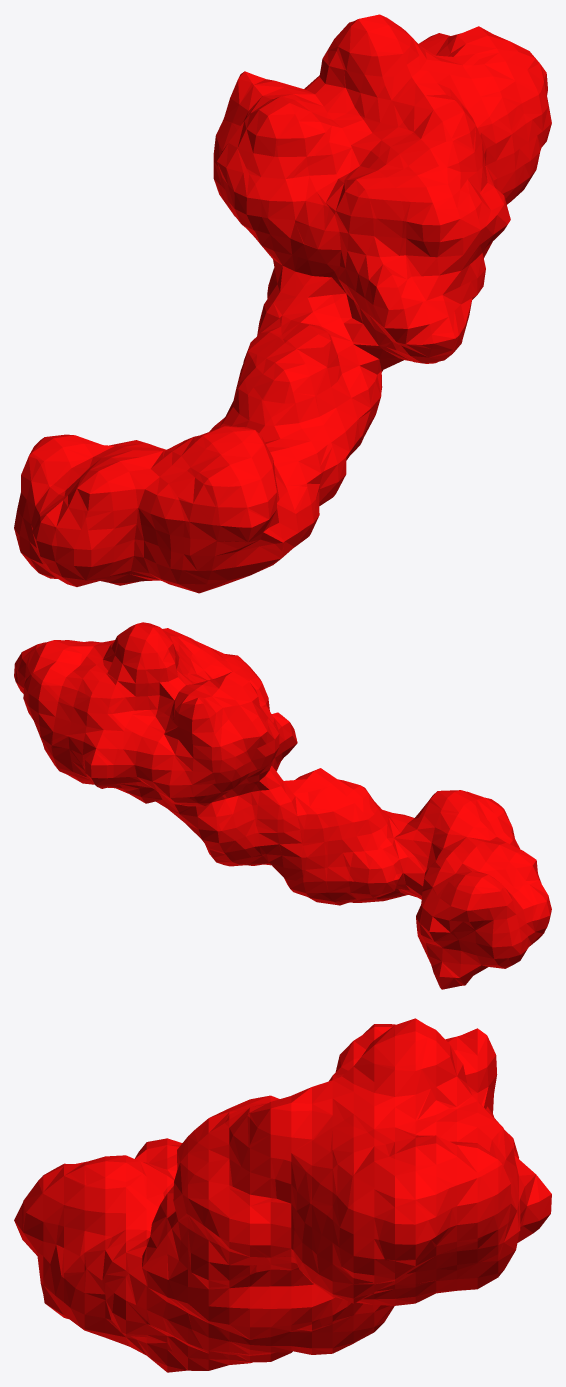
Rendered from selB_coarse.dae.
3 renders of one model, top to bottom at view 1: azimuth 30°, elevation 25°; view 2: azimuth 150°, elevation 25°; view 3: azimuth 270°, elevation 25°, orthographic. The views are drawn at different scales.
Visible parts, largest first — view 1: selB; view 2: selB; view 3: selB.
Part boxes in pixels (x1,y1,x2,y2): selB: (14,14,551,593); selB: (14,622,551,989); selB: (14,1018,551,1372).
Size of the model in its own units: 130 by 89.73 by 87.32.
